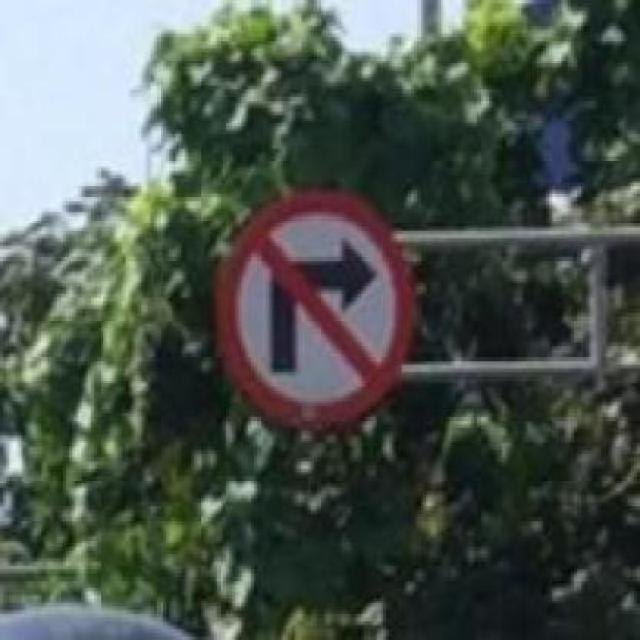right turn prohibited: (215, 189, 417, 428)
